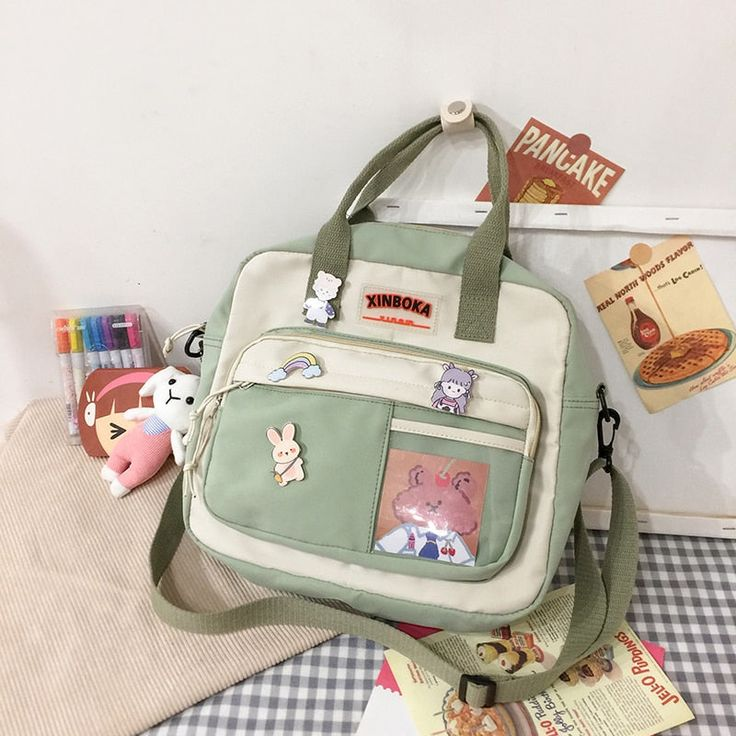nylon: (142, 107, 640, 709)
